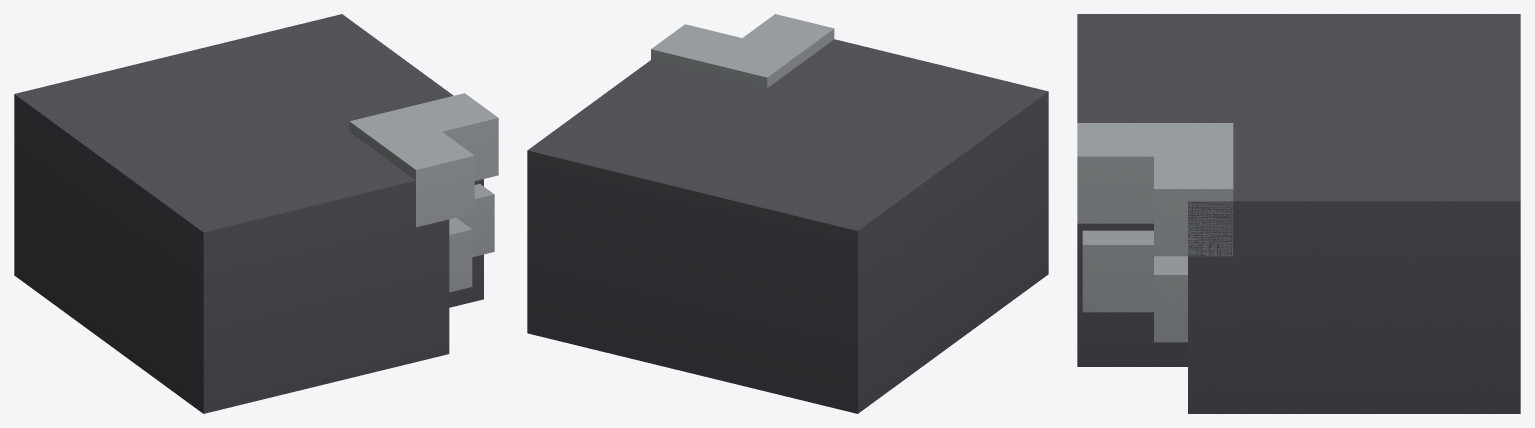
The model's file is SM_WallIndent_Brick.fbx.
The picture shows the model from 3 angles, left to right: view 1: azimuth 30°, elevation 25°; view 2: azimuth 150°, elevation 25°; view 3: azimuth 270°, elevation 25°; orthographic projection. The views are drawn at different scales.
Parts seen in each view (by area): view 1: WallIndent_Brick; view 2: WallIndent_Brick; view 3: WallIndent_Brick.
Part boxes in pixels (<box>): WallIndent_Brick: <box>14,14,498,413</box>; WallIndent_Brick: <box>527,14,1048,413</box>; WallIndent_Brick: <box>1077,14,1520,413</box>.
Size of the model in its own units: 200 by 112 by 200.
